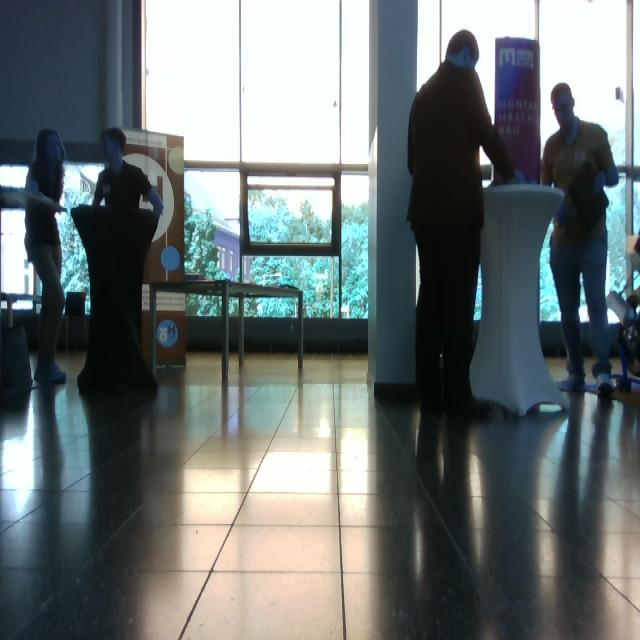door: (2, 130, 187, 369)
light bulb: (168, 146, 185, 176), (615, 86, 625, 104)
person: (407, 29, 516, 418), (541, 82, 619, 396), (77, 128, 165, 396), (24, 128, 69, 385)
pillar: (367, 1, 419, 393)
tiled floor: (2, 348, 639, 638)
window: (140, 1, 374, 324), (416, 1, 639, 326)
